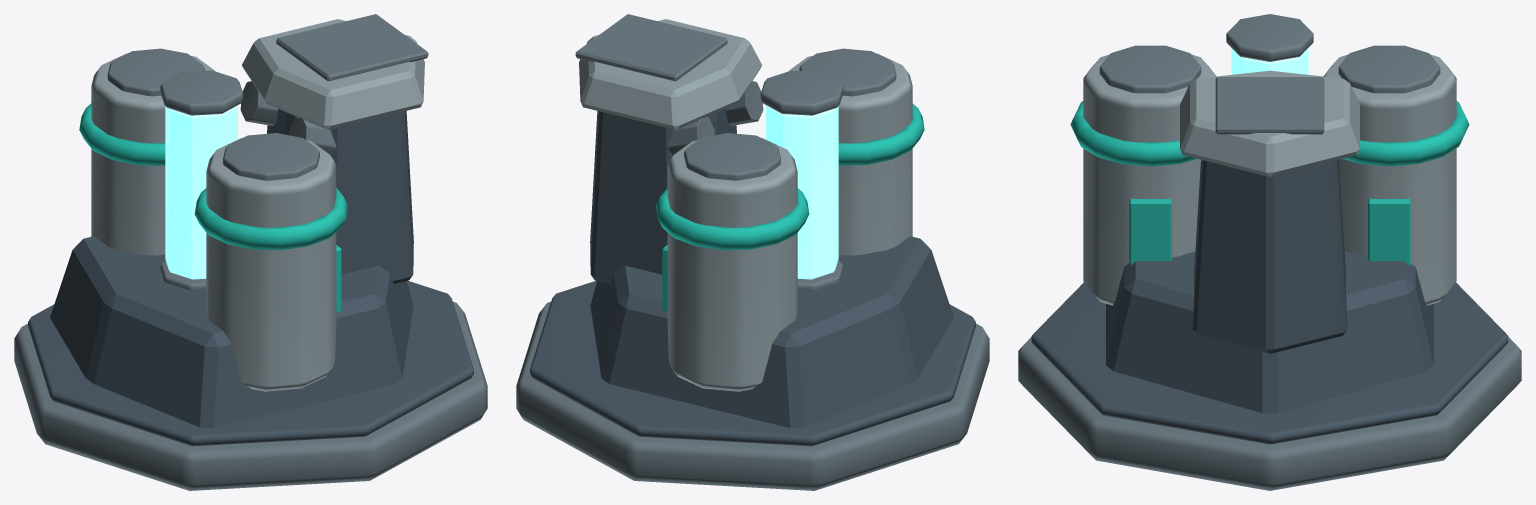
File: SM_Siphon.fbx
The picture shows the model from 3 angles, left to right: view 1: azimuth 30°, elevation 25°; view 2: azimuth 150°, elevation 25°; view 3: azimuth 270°, elevation 25°; orthographic projection. The views are drawn at different scales.
Visible parts, largest first — view 1: SM_Siphon; view 2: SM_Siphon; view 3: SM_Siphon.
Boxes of the visible parts, x1,y1,x2,y2 form: SM_Siphon: (14, 14, 487, 490); SM_Siphon: (516, 14, 989, 490); SM_Siphon: (1018, 14, 1521, 490).
Size of the model in its own units: 152 by 152 by 112.
